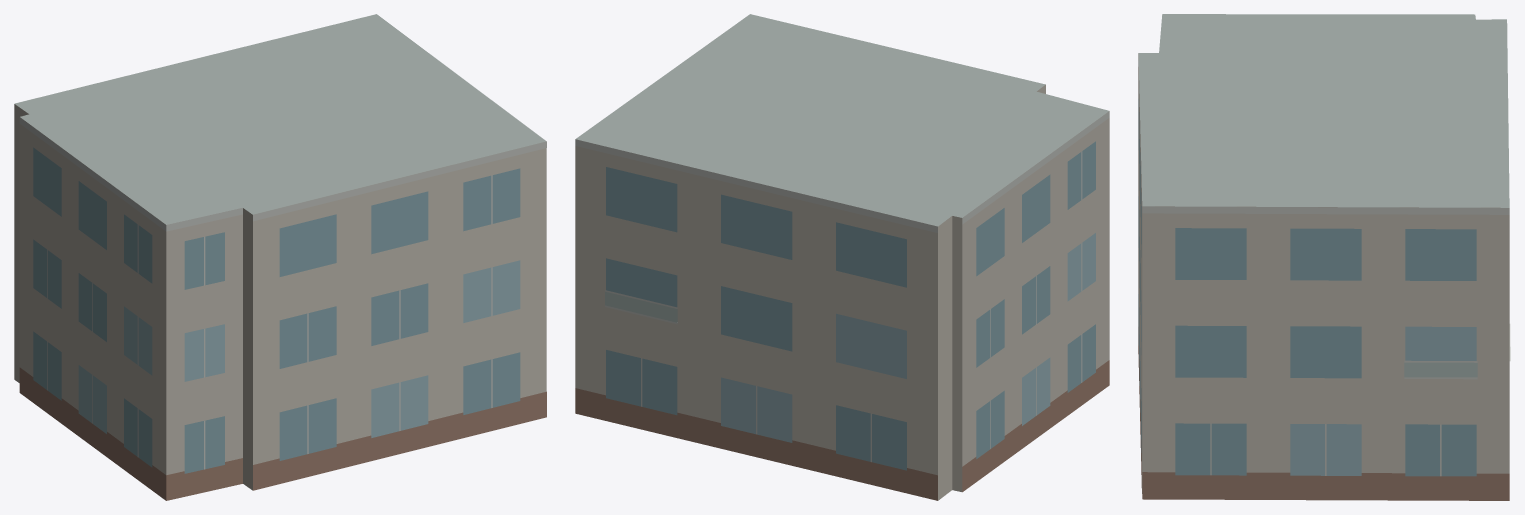
The model's file is survey-upis-32618696.glb.
3 views of the same model, side by side, from view 1: azimuth 30°, elevation 25°; view 2: azimuth 150°, elevation 25°; view 3: azimuth 270°, elevation 25° (orthographic). The views are drawn at different scales.
Visible parts, largest first — view 1: survey-upis-32618696.tmp; view 2: survey-upis-32618696.tmp; view 3: survey-upis-32618696.tmp.
Part boxes in pixels (<box>): survey-upis-32618696.tmp: <box>14,14,546,500</box>; survey-upis-32618696.tmp: <box>575,14,1109,500</box>; survey-upis-32618696.tmp: <box>1138,14,1510,500</box>.
Size of the model in its own units: 14.36 by 10.1 by 11.63.
